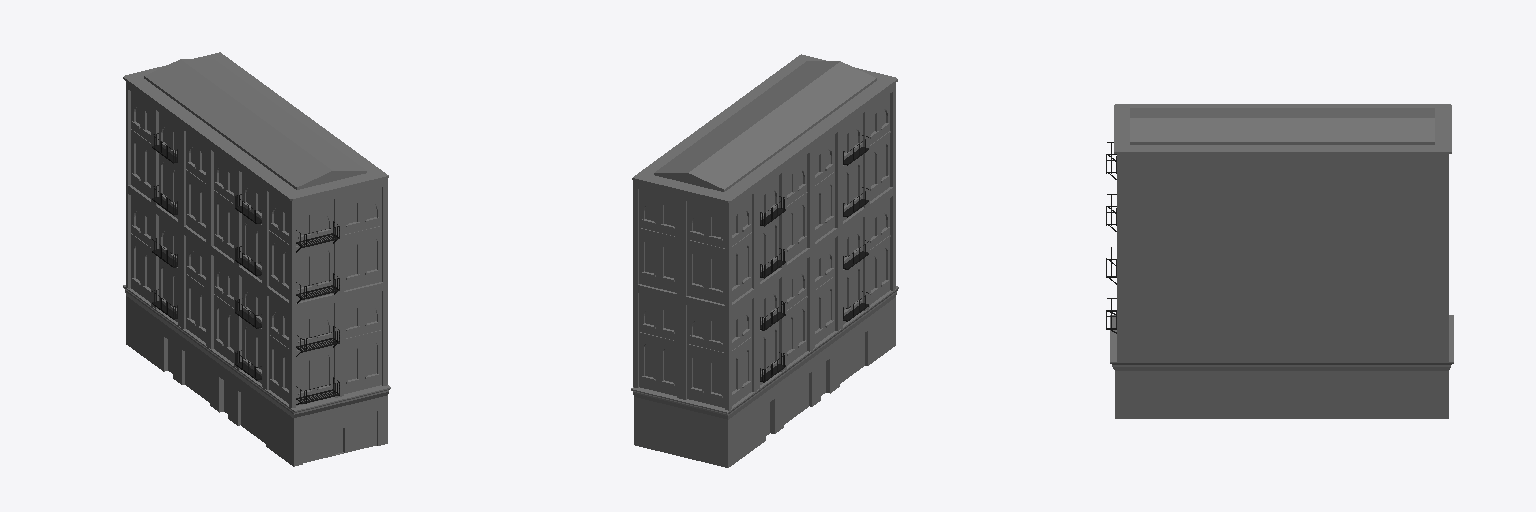
File: building03.obj
3 views of the same model, side by side, from view 1: azimuth 30°, elevation 25°; view 2: azimuth 150°, elevation 25°; view 3: azimuth 270°, elevation 25° (orthographic).
Visible parts, largest first — view 1: K_BuildingsA_001, K_BuildingsA_006, K_BuildingsA_002, K_BuildingsA_008, K_BuildingsA_004, K_BuildingsA_007, K_BuildingsA_003; view 2: K_BuildingsA_001, K_BuildingsA_006, K_BuildingsA_002, K_BuildingsA_008, K_BuildingsA_003, K_BuildingsA_007; view 3: K_BuildingsA_002, K_BuildingsA_006, K_BuildingsA_001.
Part boxes in pixels (x1,y1,x2,y2): K_BuildingsA_001: (123,77,388,407); K_BuildingsA_006: (124,52,388,198); K_BuildingsA_002: (123,76,390,466); K_BuildingsA_008: (152,133,339,404); K_BuildingsA_004: (303,411,376,462); K_BuildingsA_007: (241,393,265,443); K_BuildingsA_003: (185,352,209,402); K_BuildingsA_001: (632,79,897,410); K_BuildingsA_006: (633,54,896,200); K_BuildingsA_002: (631,78,898,467); K_BuildingsA_008: (760,135,868,382); K_BuildingsA_003: (784,374,808,424); K_BuildingsA_007: (840,333,864,383); K_BuildingsA_002: (1110,142,1453,418); K_BuildingsA_006: (1114,104,1451,151); K_BuildingsA_001: (1114,152,1451,153).
Bounding box in the file's own units: 6.4 × 16.94 × 19.13.